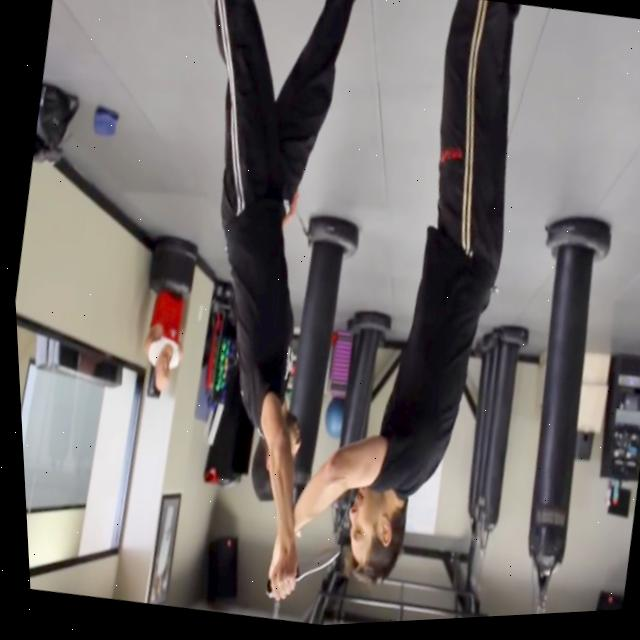knife: (285, 540, 336, 591)
